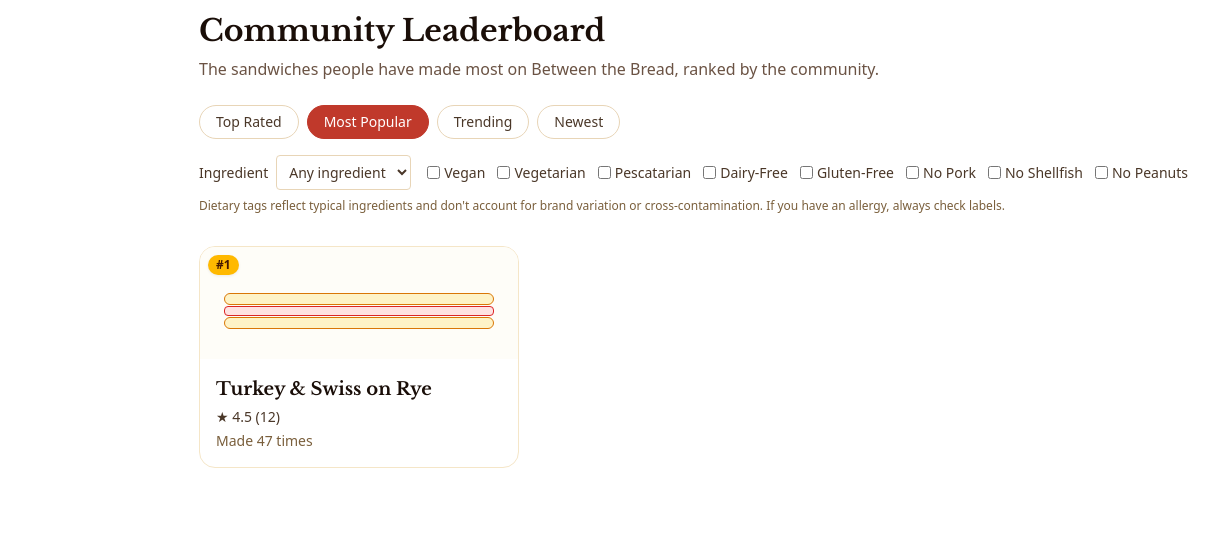
Test: CommunityIndex filters › filters by an ingredient
Expected: the heading "Turkey & Swiss on Rye" is shown, [216, 378, 432, 400]
Select "Ham" in the dropdown labelled "Ingredient" at (344, 172), box [276, 155, 411, 190]
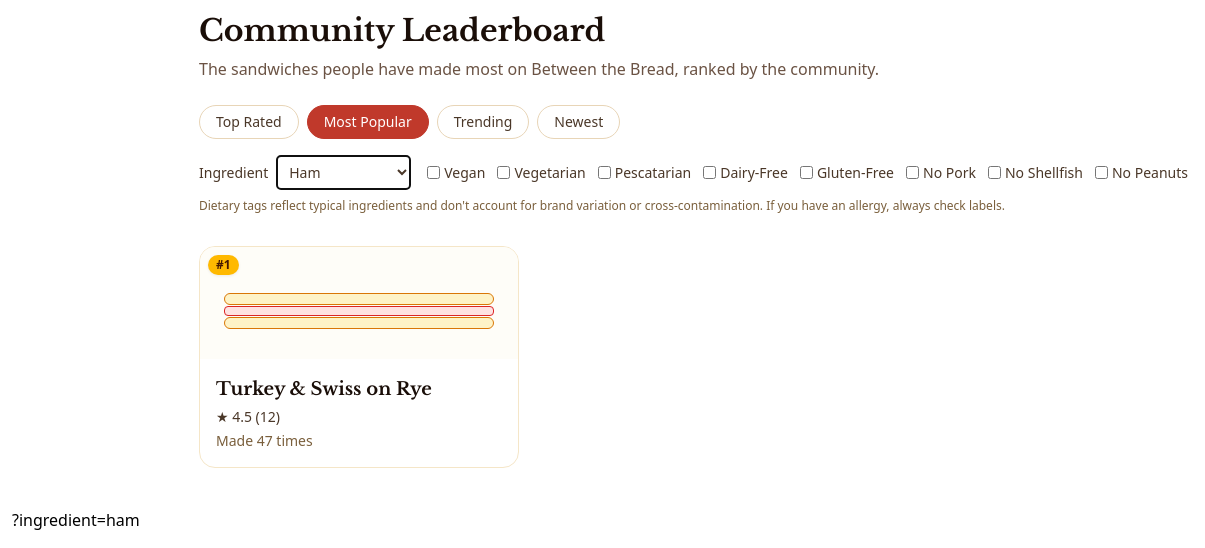
Now the text with test id "search" shows "ingredient=ham", box [12, 509, 140, 531]
